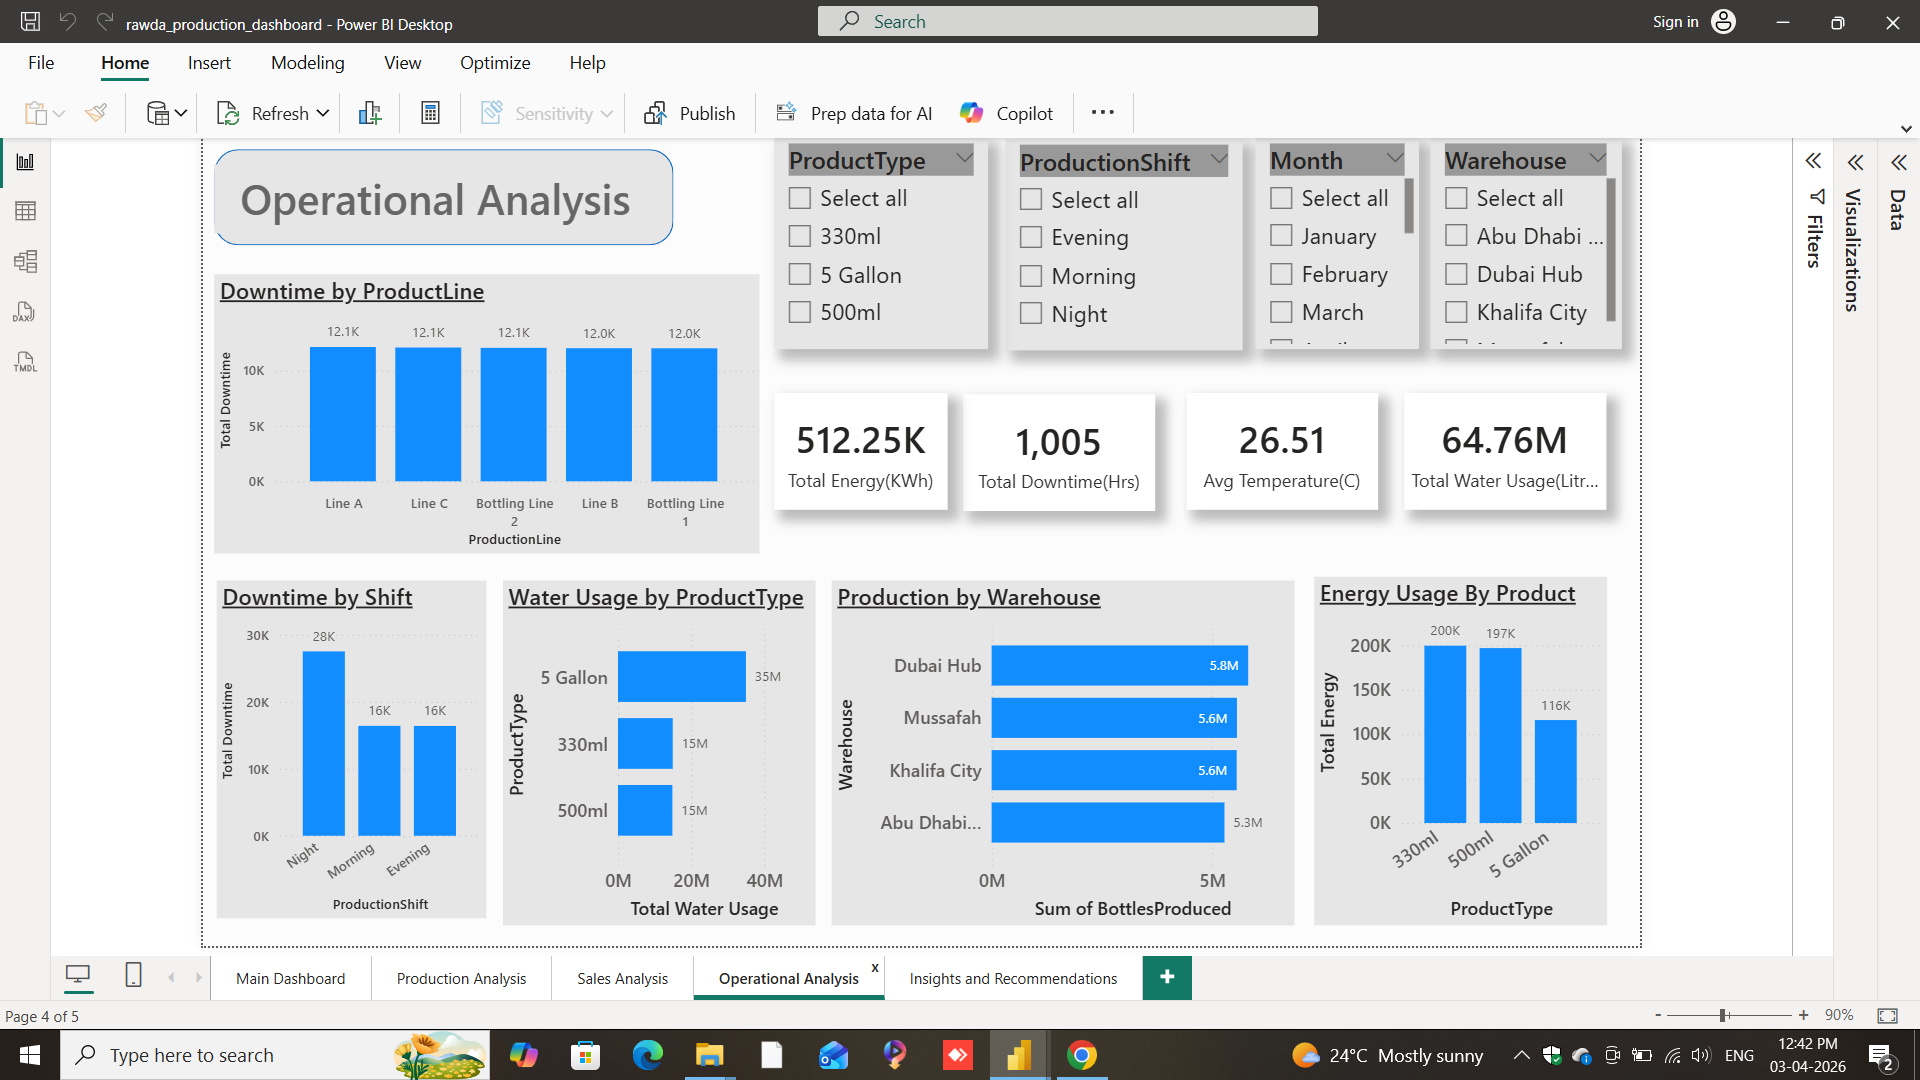

The page's visual inventory and layout, read from the dashboard file:
{"tool":"powerbi","page":{"name":"Operational Analysis","canvas":[1280,720],"ordinal":3},"visuals":[{"type":"shape","box":[10,10,409.1,85.5],"z":1000},{"type":"textbox","box":[9.6,23.3,393.8,61.7],"z":2000},{"type":"slicer","fields":{"Values":["Rawda_procudtion_sales.ProductionShift"]},"box":[714.9,1.4,211.3,188],"z":3000},{"type":"slicer","fields":{"Values":["Rawda_procudtion_sales.ProductType"]},"box":[509.1,0,190.7,188],"z":4000},{"type":"card","fields":{"Values":["Rawda_production_sales.Total Downtime Hours"]},"box":[676.5,227.8,171.5,104.3],"z":5000},{"type":"card","fields":{"Values":["Rawda_production_sales.Total Energy"]},"box":[508.6,227.1,154.3,104.3],"z":6000},{"type":"card","fields":{"Values":["Rawda_production_sales.Total Water Usage"]},"box":[1070,227.1,180,104.3],"z":7000},{"type":"card","fields":{"Values":["Rawda_production_sales.Avg Temperature"]},"box":[875.7,227.1,170,104.3],"z":8000},{"type":"clusteredColumnChart","title":"Downtime by Shift","fields":{"Category":["Rawda_production_sales.ProductionShift"],"Y":["Rawda_production_sales.Total Downtime"]},"box":[12.3,393.8,240.1,300.5],"z":9000},{"type":"clusteredBarChart","title":"Water Usage by ProductType","fields":{"Category":["Rawda_procudtion_sales.ProductType"],"Y":["Rawda_production_sales.Total Water Usage"]},"box":[267.6,393.8,278.6,307.4],"z":10000},{"type":"slicer","fields":{"Values":["Rawda_procudtion_sales.DateFinal.Variation.Date Hierarchy.Month"]},"box":[937.2,0,145.5,188],"z":11000},{"type":"clusteredColumnChart","title":"Downtime by ProductLine","fields":{"Y":["Rawda_production_sales.Total Downtime"],"Category":["Rawda_production_sales.ProductionLine"]},"box":[10,121.4,485.7,248.6],"z":12000},{"type":"clusteredColumnChart","title":"Energy Usage By Product","fields":{"Category":["Rawda_production_sales.ProductType"],"Y":["Rawda_production_sales.Total Energy"]},"box":[989.4,391.1,260.7,310.1],"z":13000},{"type":"slicer","fields":{"Values":["Rawda_production_sales.Warehouse"]},"box":[1093.7,0,170.2,188],"z":14000},{"type":"clusteredBarChart","title":"Production by Warehouse","fields":{"Category":["Rawda_production_sales.Warehouse"],"Y":["Sum(Rawda_production_sales.BottlesProduced)"]},"box":[559.9,393.8,411.7,307.4],"z":15000}]}

Visuals, with their boxes on the page's 1280x720 design canvas (x1, y1, x2, y2). These are canvas units, not pixel positions in the 1920x1080 screenshot, which may show the page scaled, cropped or inside an application window:
shape: rect(10, 10, 419, 96)
textbox: rect(10, 23, 403, 85)
slicer - Rawda_procudtion_sales.ProductionShift: rect(715, 1, 926, 189)
slicer - Rawda_procudtion_sales.ProductType: rect(509, 0, 700, 188)
card - Rawda_production_sales.Total Downtime Hours: rect(676, 228, 848, 332)
card - Rawda_production_sales.Total Energy: rect(509, 227, 663, 331)
card - Rawda_production_sales.Total Water Usage: rect(1070, 227, 1250, 331)
card - Rawda_production_sales.Avg Temperature: rect(876, 227, 1046, 331)
"Downtime by Shift" clusteredColumnChart: rect(12, 394, 252, 694)
"Water Usage by ProductType" clusteredBarChart: rect(268, 394, 546, 701)
slicer - Rawda_procudtion_sales.DateFinal.Variation.Date Hierarchy.Month: rect(937, 0, 1083, 188)
"Downtime by ProductLine" clusteredColumnChart: rect(10, 121, 496, 370)
"Energy Usage By Product" clusteredColumnChart: rect(989, 391, 1250, 701)
slicer - Rawda_production_sales.Warehouse: rect(1094, 0, 1264, 188)
"Production by Warehouse" clusteredBarChart: rect(560, 394, 972, 701)
